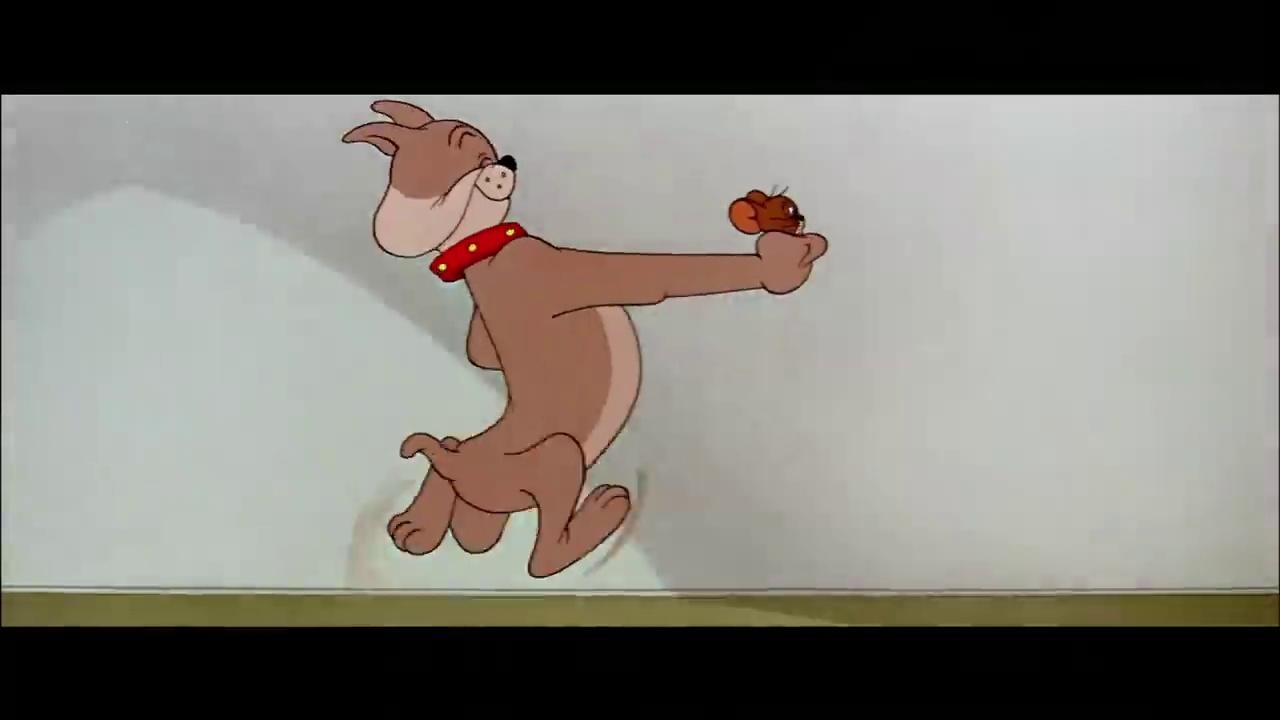Jerry: (726, 182, 812, 240)
